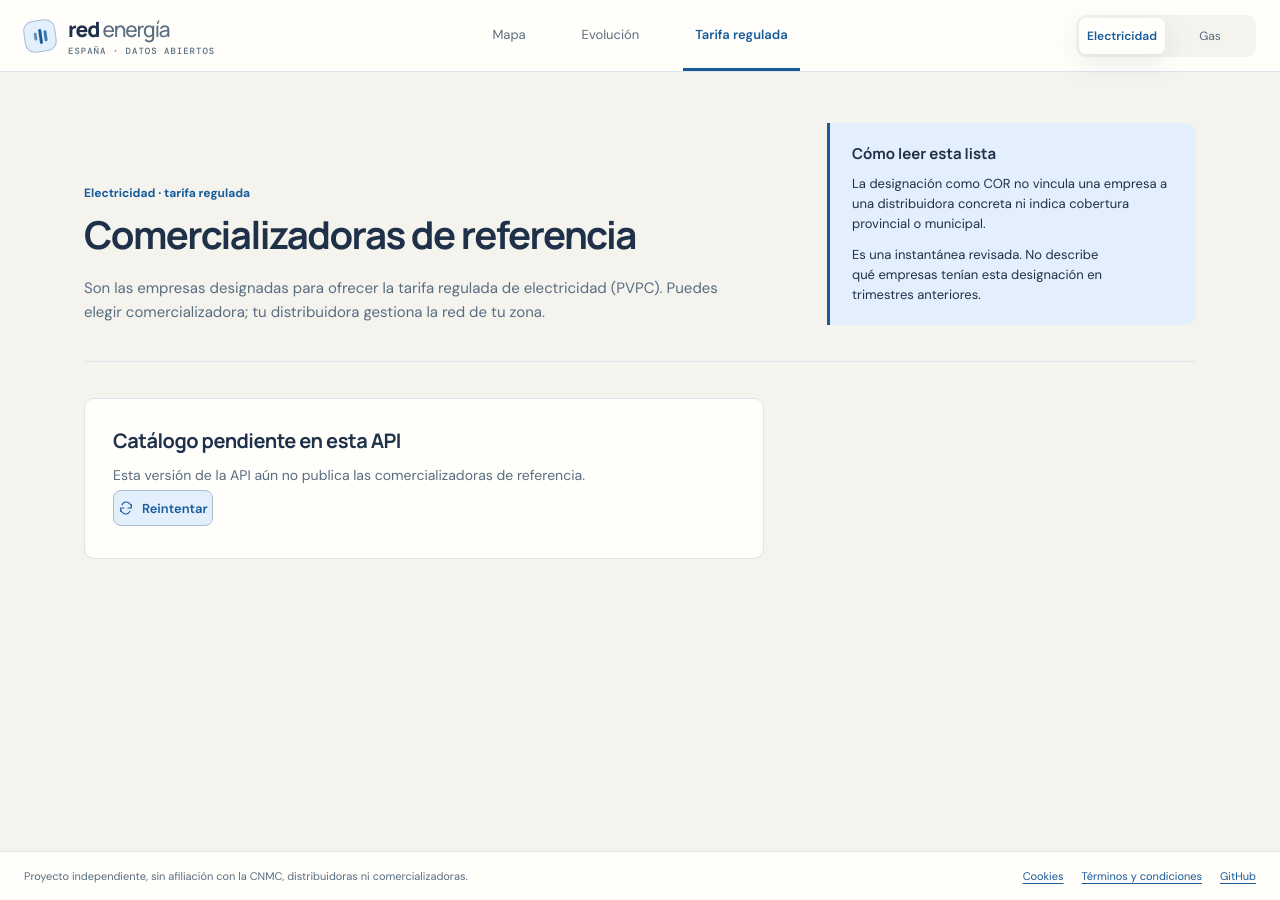
Test: public reference marketer page › shows a clear pending state for an old API and retries a transient error
Expected: the heading "Catálogo pendiente en esta API" is shown, [113, 427, 401, 454]
Click the button "Reintentar" at (163, 508), box [113, 490, 213, 526]
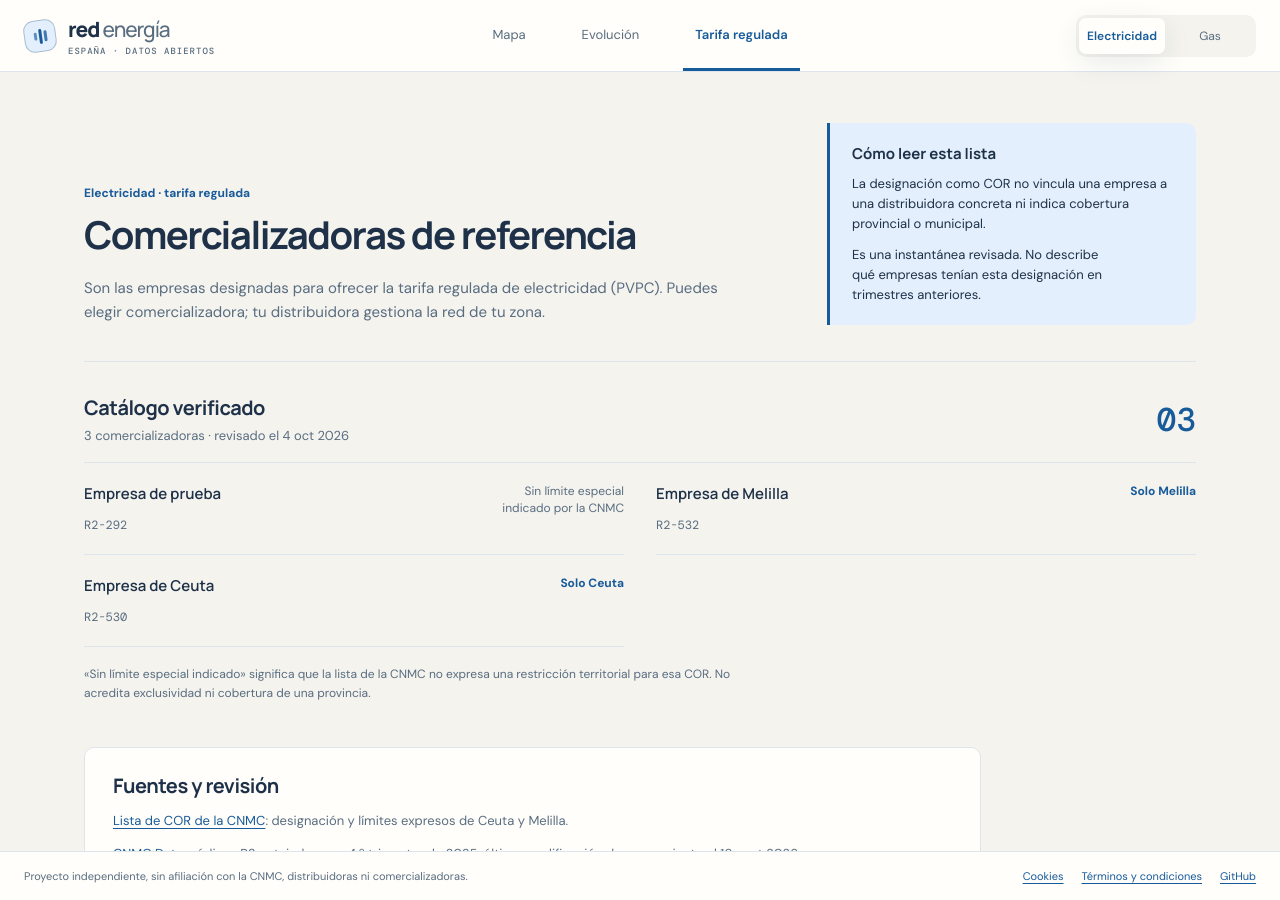
Expected: the heading "Catálogo verificado" is shown, [84, 394, 265, 421]
